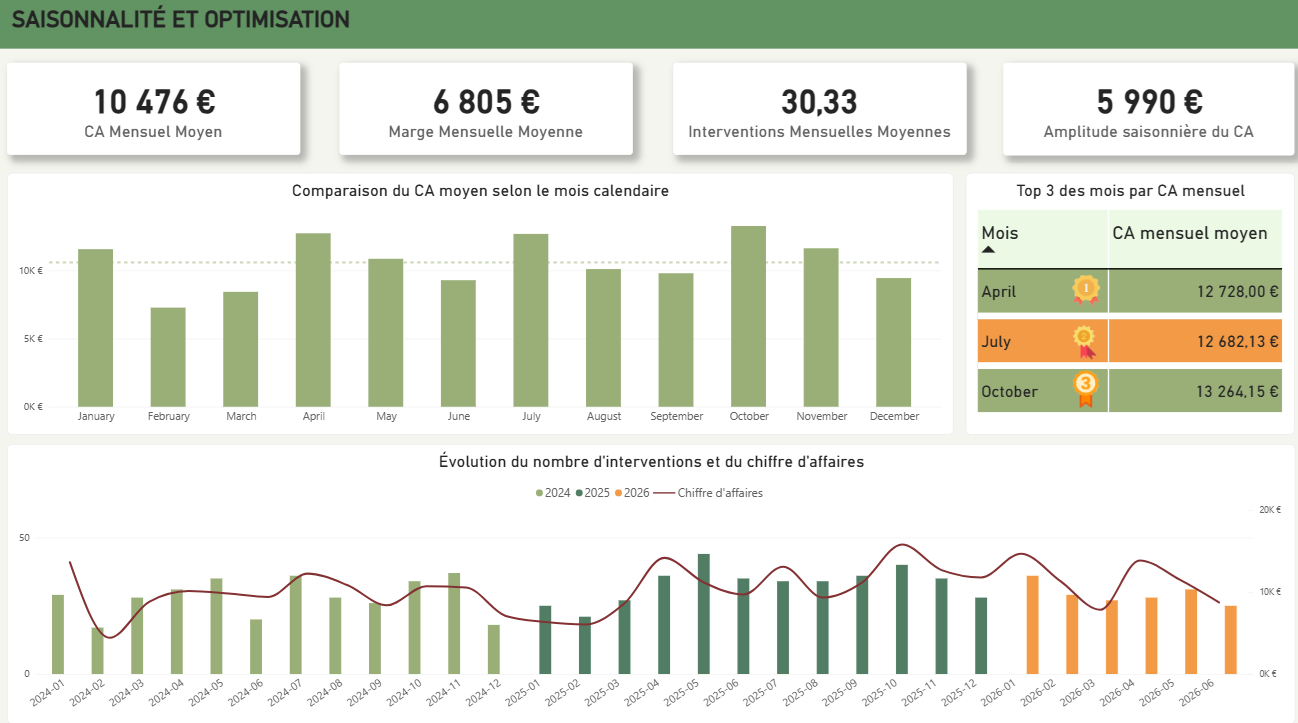

This screenshot's page, from the dashboard's own definition file:
{"tool":"powerbi","page":{"name":"SAISONNALITÉ ET OPTIMISATION","canvas":[1920,1080],"ordinal":2},"visuals":[{"type":"textbox","box":[12.8,9.2,555.8,47.7],"z":0},{"type":"card","fields":{"Values":["_Mesures.CA Mensuel Moyen"]},"box":[15,94,430,135],"z":1000},{"type":"card","fields":{"Values":["_Mesures.Interventions Mensuelles Moyennes"]},"box":[993,93.5,430,135],"z":2000},{"type":"card","fields":{"Values":["_Mesures.Marge Mensuelle Moyenne"]},"box":[503,93.5,430,135],"z":3000},{"type":"lineClusteredColumnComboChart","title":"Évolution du nombre d''interventions et du chiffre d''affaires","fields":{"Category":["DIM_Date2.mois"],"Series":["DIM_Date2.annee"],"Y":["_Mesures.Nombre interventions"],"Y2":["_Mesures.CA Total"]},"box":[14.7,653,1890,410.9],"z":4000},{"type":"card","fields":{"Values":["_Mesures.Ecart CA Mensuel"]},"box":[1476.6,93.5,427.4,135.7],"z":5000},{"type":"tableEx","title":"Top 3 des mois par CA mensuel","fields":{"Values":["DIM_Date.mois_libelle","_Mesures.Moyenne générale CA"]},"box":[1421.5,255,482.4,385.2],"z":6500},{"type":"lineClusteredColumnComboChart","title":"Top 5 des mois les plus performants en chiffre d''affaires","fields":{"Category":["DIM_Date.mois_libelle"],"Y":["_Mesures.Moyenne générale CA"]},"box":[14.7,255,1388.5,385.2],"z":7000},{"type":"image","box":[1560.9,405,73.4,45.9],"z":7500},{"type":"image","box":[1566,478,58,50],"z":8000},{"type":"image","box":[1562,545,68,56],"z":9000}]}

Visuals, with their boxes in screenshot pixels (x1, y1, x2, y2), scaled from the page's 1920x1080 canvas onto the 1298x723 screenshot:
textbox: [9,6,384,38]
card - _Mesures.CA Mensuel Moyen: [10,63,301,153]
card - _Mesures.Interventions Mensuelles Moyennes: [671,63,962,153]
card - _Mesures.Marge Mensuelle Moyenne: [340,63,631,153]
"Évolution du nombre d''interventions et du chiffre d''affaires" lineClusteredColumnComboChart: [10,437,1288,712]
card - _Mesures.Ecart CA Mensuel: [998,63,1287,153]
"Top 3 des mois par CA mensuel" tableEx: [961,171,1287,429]
"Top 5 des mois les plus performants en chiffre d''affaires" lineClusteredColumnComboChart: [10,171,949,429]
image: [1055,271,1105,302]
image: [1059,320,1098,353]
image: [1056,365,1102,402]
